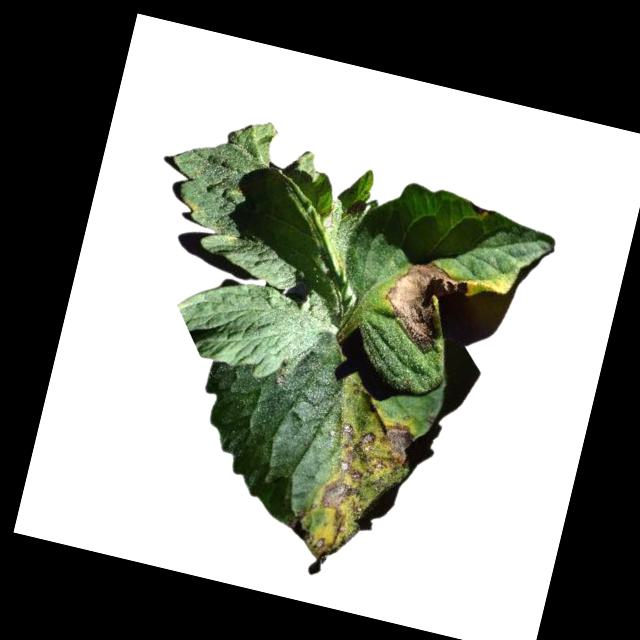Early_blight: (283, 401, 419, 577), (373, 254, 477, 363), (345, 198, 366, 221), (468, 201, 494, 219)
